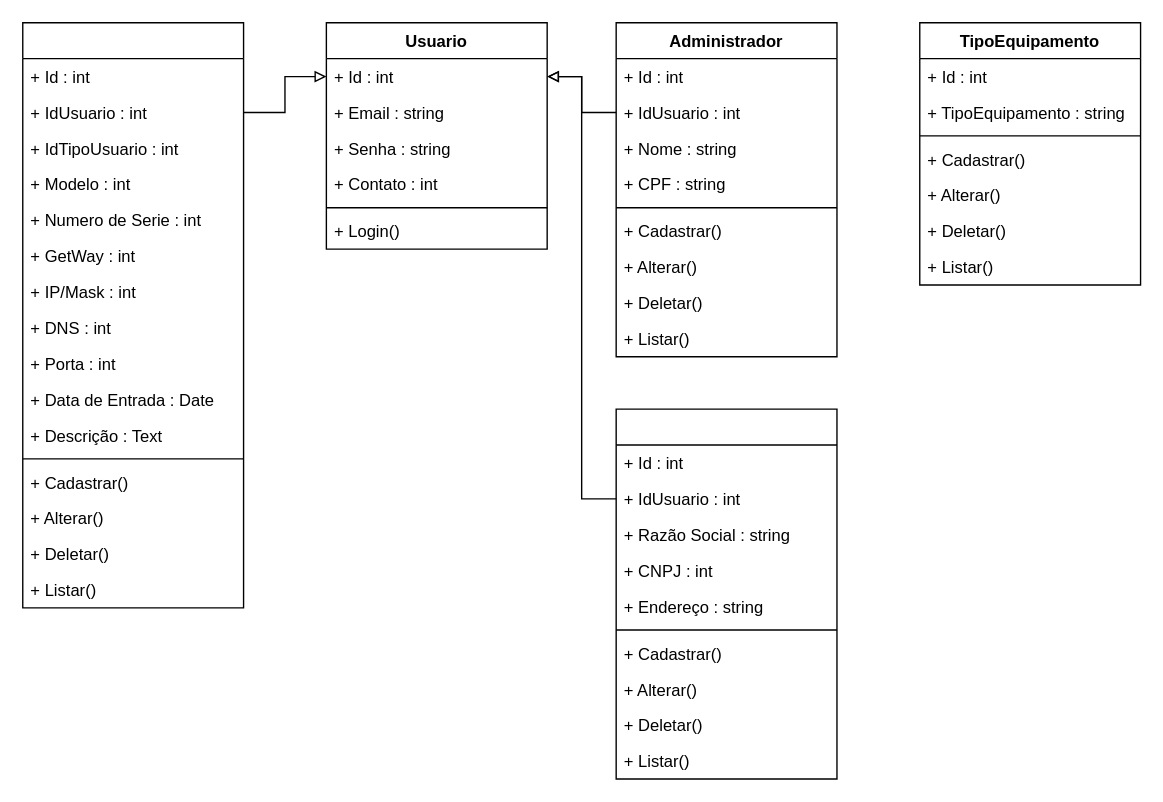
This 1163x802 diagram has some shape labels left out. Here are the shapes that lost their labels. From the top down, the box of each, then its label:
(21, 21, 244, 608): Equipamento
(615, 408, 837, 779): Cliente
